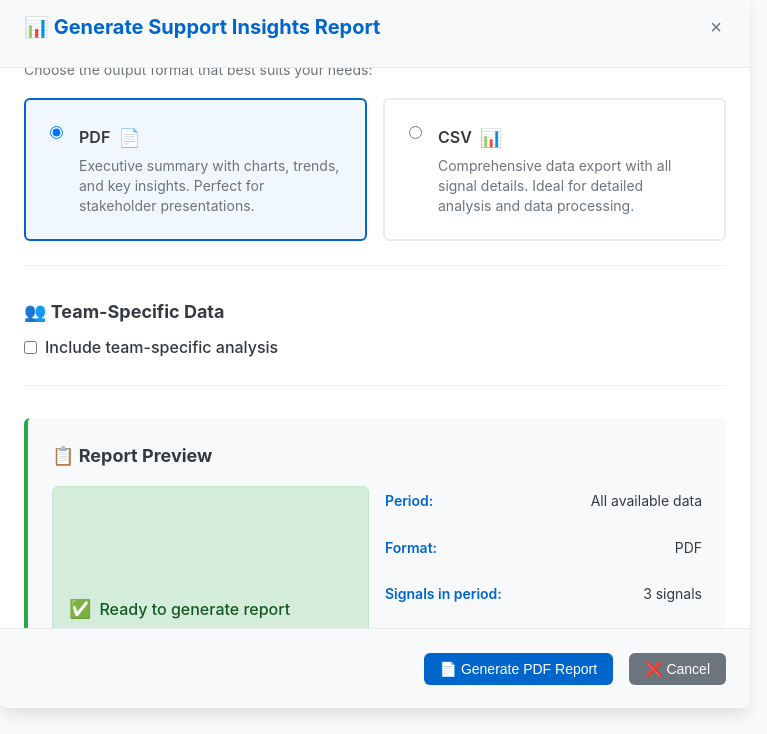
Scenario: ReportGenerationModal › User Interactions › shows team selector when team data is enabled
(page scrolled)
Click the checkbox labelled "Include team-specific analysis" at (30, 348), box [24,341,37,354]
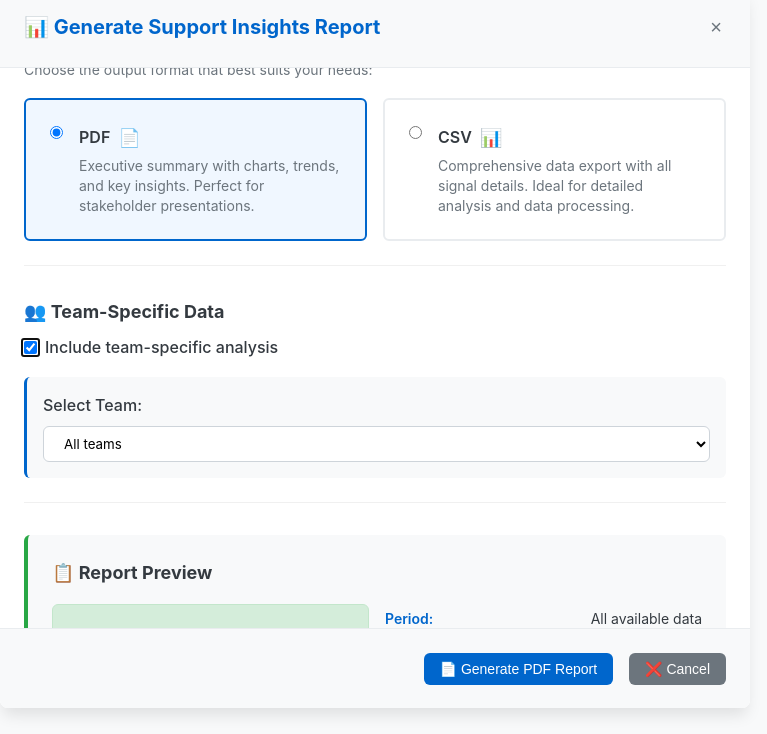
expect the dropdown labelled "Select Team:" shows "All teams": met, box [43,426,710,462]
